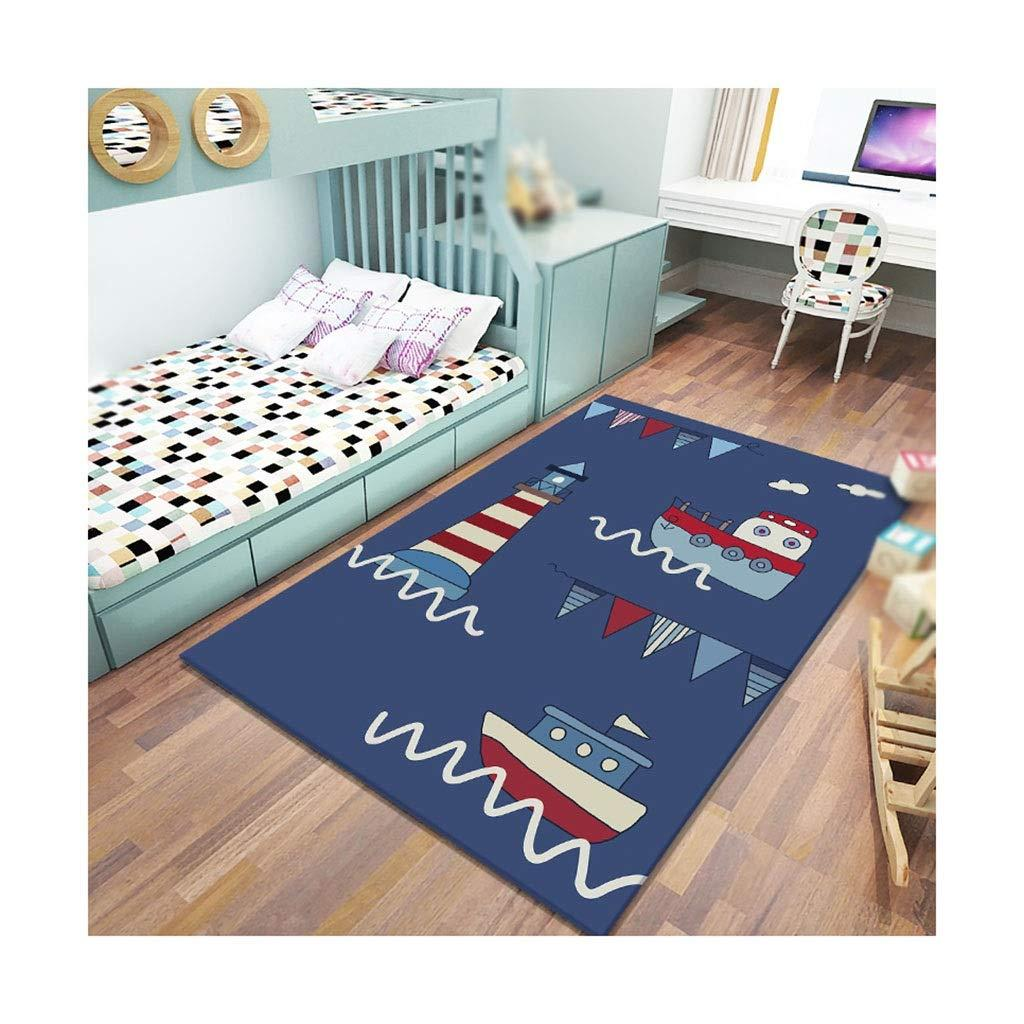bed: (32, 208, 515, 510)
